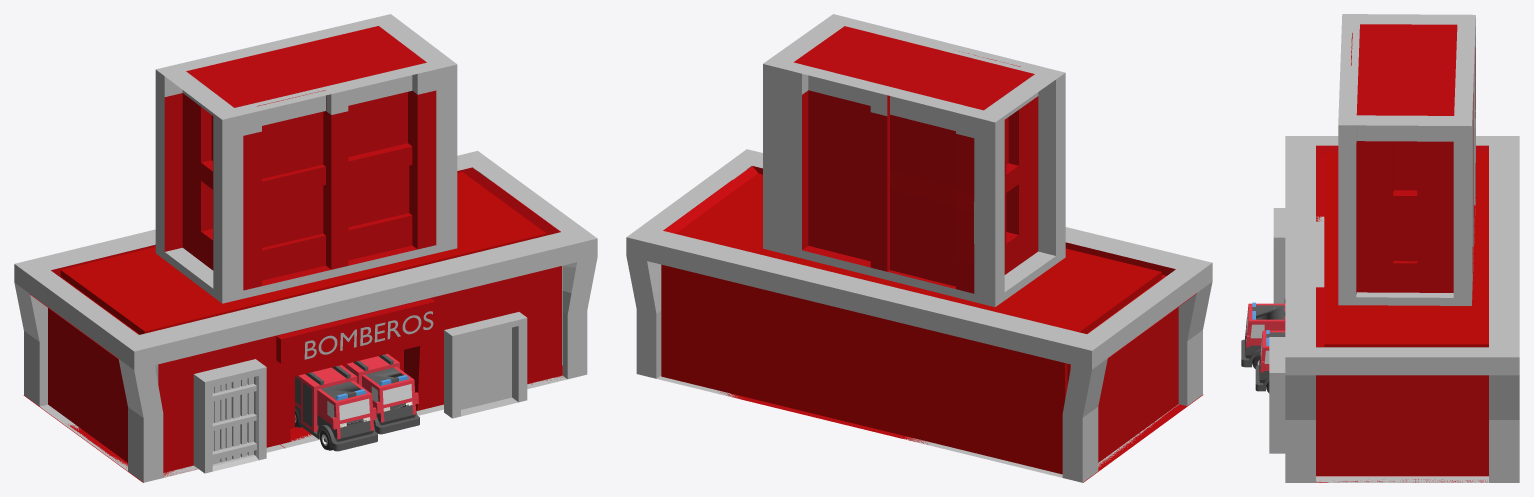
File: large_building05.obj
3 views of the same model, side by side, from view 1: azimuth 30°, elevation 25°; view 2: azimuth 150°, elevation 25°; view 3: azimuth 270°, elevation 25° (orthographic). The views are drawn at different scales.
Parts seen in each view (by area): view 1: VENTANA_IZ_Cubo.001_VENTANA_IZ_Cubo.001_(null), VENTANA_IZ_Cubo.001_VENTANA_IZ_Cubo.001_Material.001, VENTANA_IZ_Cubo.001_VENTANA_IZ_Cubo.001_Material.004, VENTANA_IZ_Cubo.001_VENTANA_IZ_Cubo.001_None, VENTANA_IZ_Cubo.001_VENTANA_IZ_Cubo.001_Material.005, VENTANA_IZ_Cubo.001_VENTANA_IZ_Cubo.001_Material.002, VENTANA_IZ_Cubo.001_VENTANA_IZ_Cubo.001_plastic, VENTANA_IZ_Cubo.001_VENTANA_IZ_Cubo.001_paintRed, VENTANA_IZ_Cubo.001_VENTANA_IZ_Cubo.001_paintRed.001, VENTANA_IZ_Cubo.001_VENTANA_IZ_Cubo.001_plastic.001; view 2: VENTANA_IZ_Cubo.001_VENTANA_IZ_Cubo.001_Material.005, VENTANA_IZ_Cubo.001_VENTANA_IZ_Cubo.001_Material.001, VENTANA_IZ_Cubo.001_VENTANA_IZ_Cubo.001_(null), VENTANA_IZ_Cubo.001_VENTANA_IZ_Cubo.001_Material.002, VENTANA_IZ_Cubo.001_VENTANA_IZ_Cubo.001_Material.004; view 3: VENTANA_IZ_Cubo.001_VENTANA_IZ_Cubo.001_(null), VENTANA_IZ_Cubo.001_VENTANA_IZ_Cubo.001_Material.001, VENTANA_IZ_Cubo.001_VENTANA_IZ_Cubo.001_Material.004, VENTANA_IZ_Cubo.001_VENTANA_IZ_Cubo.001_Material.002, VENTANA_IZ_Cubo.001_VENTANA_IZ_Cubo.001_Material.005, VENTANA_IZ_Cubo.001_VENTANA_IZ_Cubo.001_None, VENTANA_IZ_Cubo.001_VENTANA_IZ_Cubo.001_plastic, VENTANA_IZ_Cubo.001_VENTANA_IZ_Cubo.001_paintRed, VENTANA_IZ_Cubo.001_VENTANA_IZ_Cubo.001_plastic.001, VENTANA_IZ_Cubo.001_VENTANA_IZ_Cubo.001_paintRed.001.
Boxes of the visible parts, bbox=[...] form: VENTANA_IZ_Cubo.001_VENTANA_IZ_Cubo.001_(null): bbox=[14, 64, 597, 482]; VENTANA_IZ_Cubo.001_VENTANA_IZ_Cubo.001_Material.001: bbox=[164, 26, 436, 290]; VENTANA_IZ_Cubo.001_VENTANA_IZ_Cubo.001_Material.004: bbox=[23, 167, 562, 482]; VENTANA_IZ_Cubo.001_VENTANA_IZ_Cubo.001_None: bbox=[193, 311, 527, 473]; VENTANA_IZ_Cubo.001_VENTANA_IZ_Cubo.001_Material.005: bbox=[60, 172, 546, 334]; VENTANA_IZ_Cubo.001_VENTANA_IZ_Cubo.001_Material.002: bbox=[155, 14, 456, 303]; VENTANA_IZ_Cubo.001_VENTANA_IZ_Cubo.001_plastic: bbox=[295, 366, 377, 451]; VENTANA_IZ_Cubo.001_VENTANA_IZ_Cubo.001_paintRed: bbox=[295, 365, 376, 439]; VENTANA_IZ_Cubo.001_VENTANA_IZ_Cubo.001_paintRed.001: bbox=[346, 354, 418, 422]; VENTANA_IZ_Cubo.001_VENTANA_IZ_Cubo.001_plastic.001: bbox=[346, 354, 419, 434]; VENTANA_IZ_Cubo.001_VENTANA_IZ_Cubo.001_Material.005: bbox=[661, 173, 1161, 474]; VENTANA_IZ_Cubo.001_VENTANA_IZ_Cubo.001_Material.001: bbox=[794, 26, 1038, 293]; VENTANA_IZ_Cubo.001_VENTANA_IZ_Cubo.001_(null): bbox=[626, 75, 1212, 482]; VENTANA_IZ_Cubo.001_VENTANA_IZ_Cubo.001_Material.002: bbox=[763, 14, 1065, 306]; VENTANA_IZ_Cubo.001_VENTANA_IZ_Cubo.001_Material.004: bbox=[663, 166, 1203, 482]; VENTANA_IZ_Cubo.001_VENTANA_IZ_Cubo.001_(null): bbox=[1285, 14, 1519, 482]; VENTANA_IZ_Cubo.001_VENTANA_IZ_Cubo.001_Material.001: bbox=[1351, 24, 1475, 293]; VENTANA_IZ_Cubo.001_VENTANA_IZ_Cubo.001_Material.004: bbox=[1316, 145, 1488, 482]; VENTANA_IZ_Cubo.001_VENTANA_IZ_Cubo.001_Material.002: bbox=[1338, 14, 1475, 305]; VENTANA_IZ_Cubo.001_VENTANA_IZ_Cubo.001_Material.005: bbox=[1324, 152, 1488, 346]; VENTANA_IZ_Cubo.001_VENTANA_IZ_Cubo.001_None: bbox=[1269, 208, 1285, 453]; VENTANA_IZ_Cubo.001_VENTANA_IZ_Cubo.001_plastic: bbox=[1241, 298, 1285, 367]; VENTANA_IZ_Cubo.001_VENTANA_IZ_Cubo.001_paintRed: bbox=[1245, 303, 1285, 353]; VENTANA_IZ_Cubo.001_VENTANA_IZ_Cubo.001_plastic.001: bbox=[1255, 332, 1285, 391]; VENTANA_IZ_Cubo.001_VENTANA_IZ_Cubo.001_paintRed.001: bbox=[1259, 330, 1285, 376].
Size of the model in its own units: 2.94 by 1.98 by 1.56.
